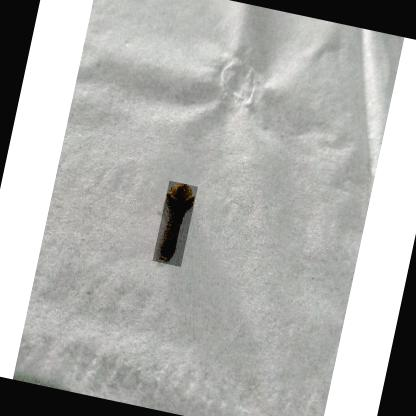baik: (158, 184, 195, 264)
